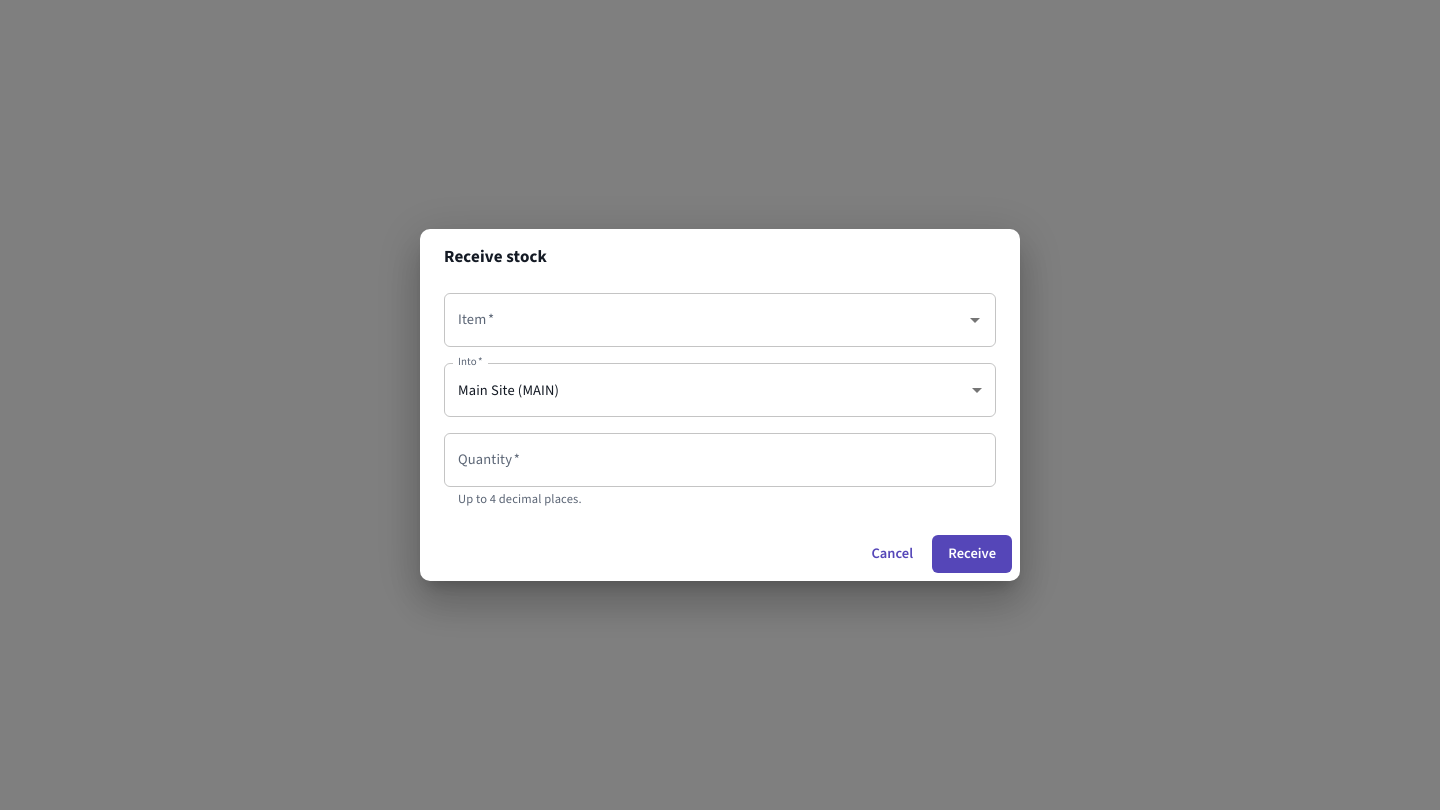
a dialog’s save refused › as outdated: keeps what was typed, with Reload beside the refusal and the amber line above the title
Click the dropdown labelled "Item" at {"x": 705, "y": 320}, box [453,302,957,338]
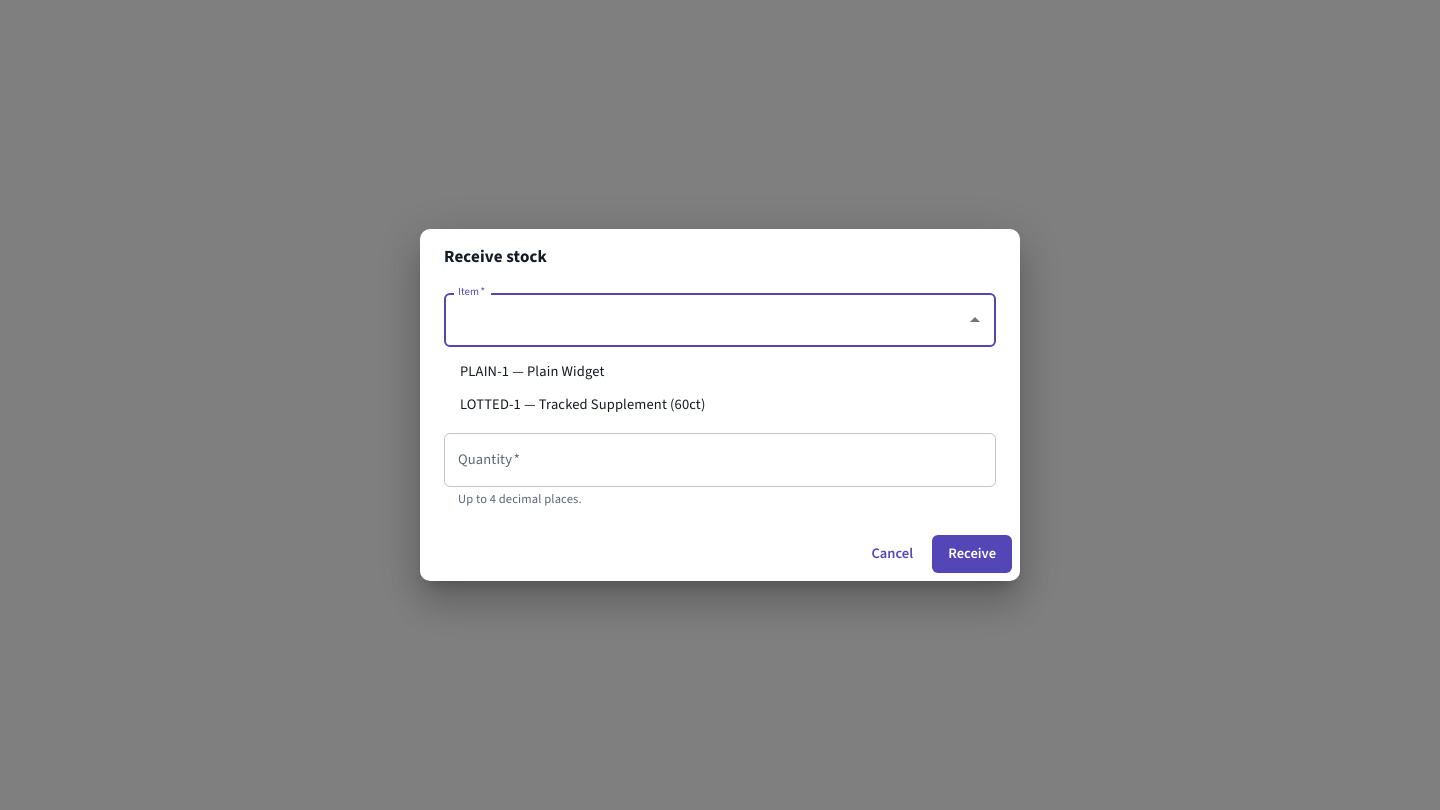
Click the option "PLAIN-1 — Plain Widget" at {"x": 532, "y": 371}, box [460,361,604,381]
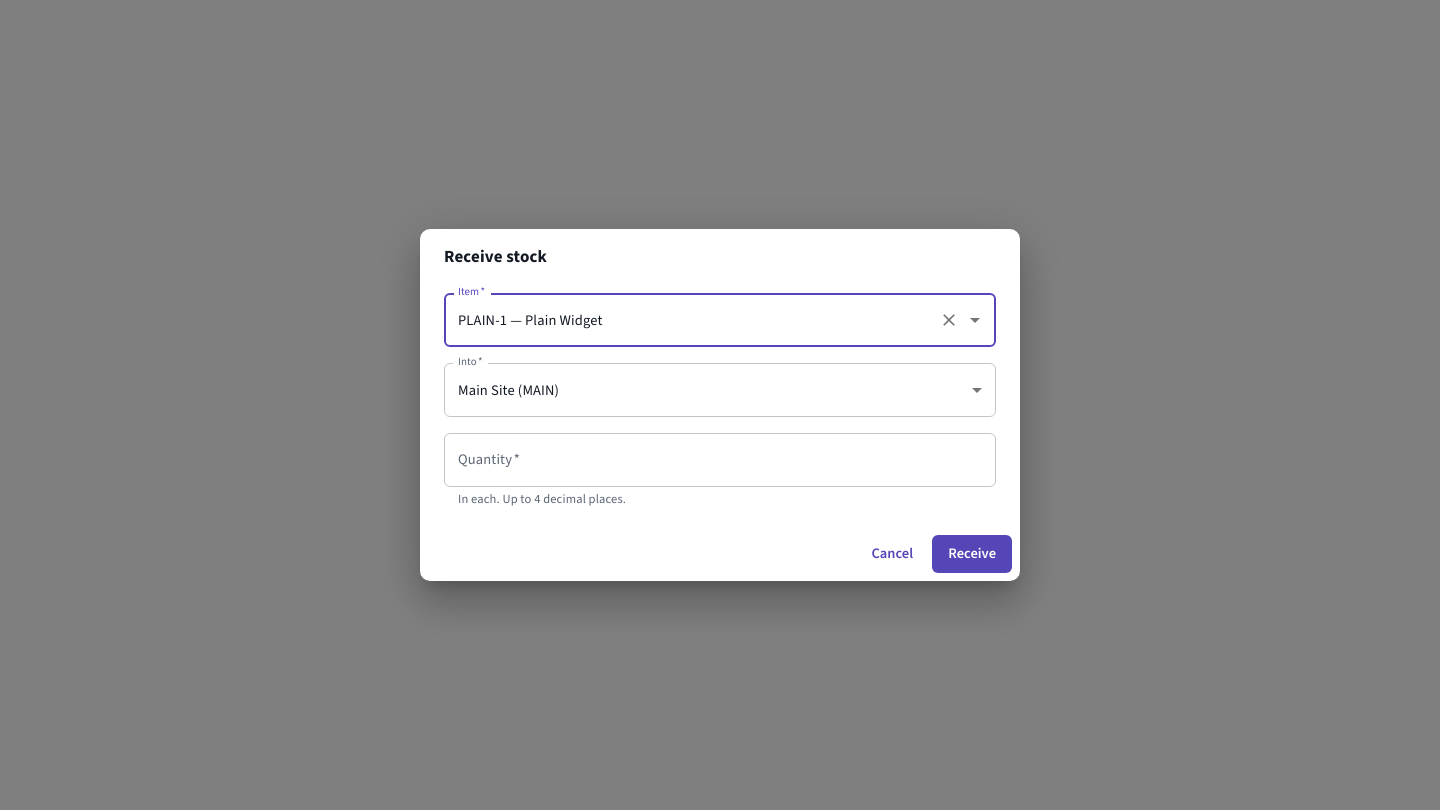
Type "5" into the field labelled "Quantity" at {"x": 720, "y": 460}, box [444,433,996,487]
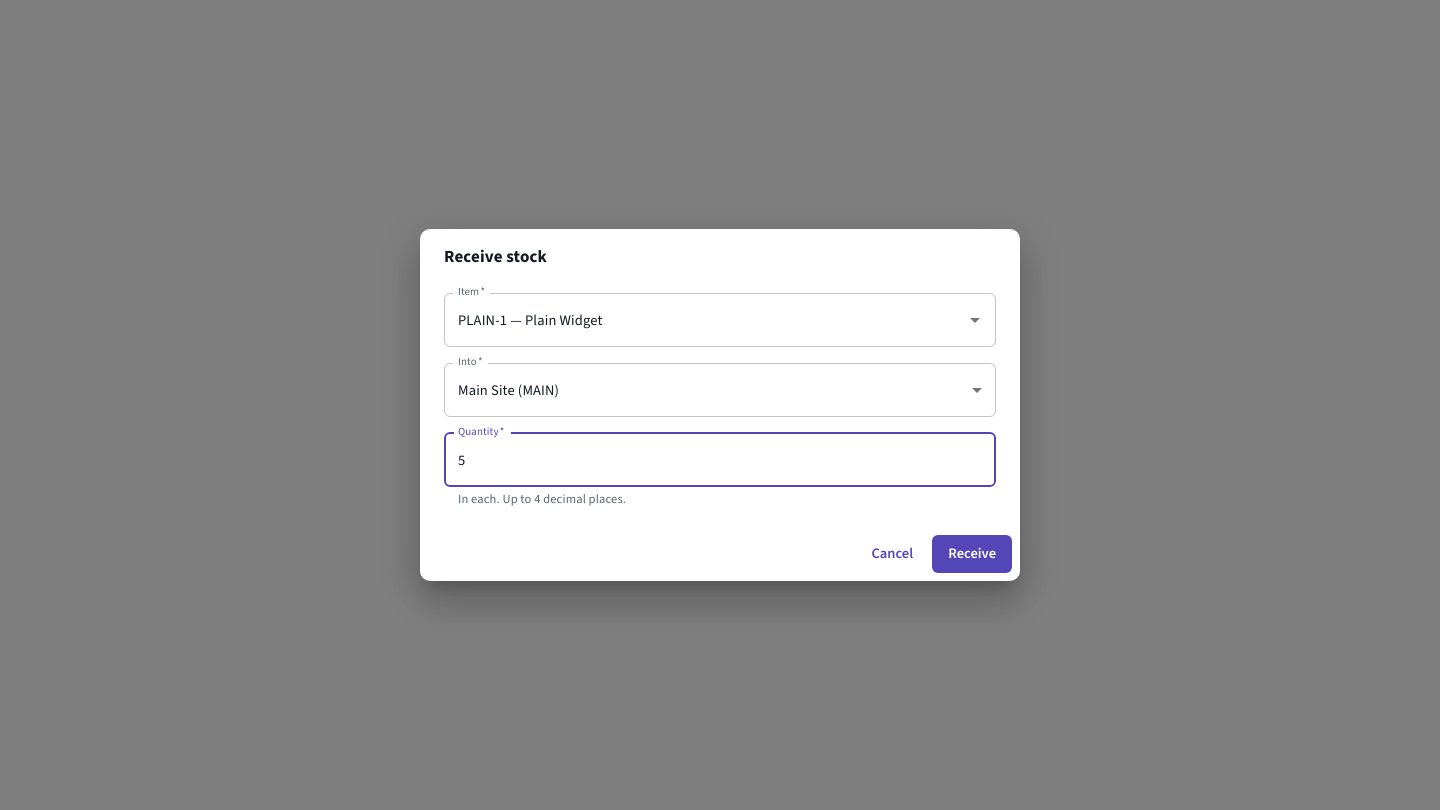
Click the button "Receive" at {"x": 972, "y": 554}, box [932,535,1012,573]
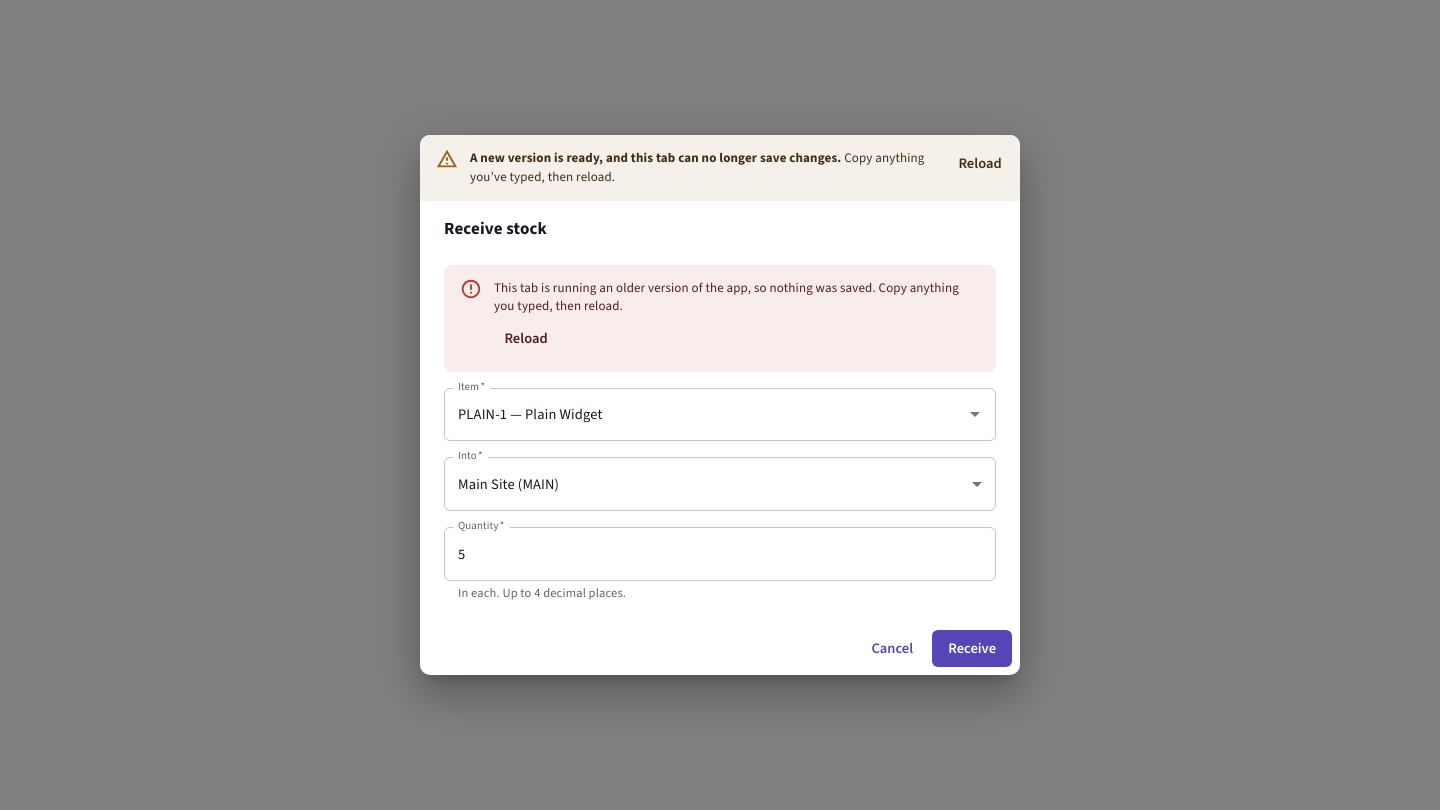
Expected: the message named "Error" shows "This tab is running an older version of the app, so nothing was saved. Copy anything you typed, then reload.", [494,278,959,314]
Expected: the button "Reload" below "Receive stock" is shown, [494,320,558,358]
Expected: the dialog shows "A new version is ready, and this tab can no longer save changes. Copy anything you’ve typed, then reload.", [420,135,1020,675]
